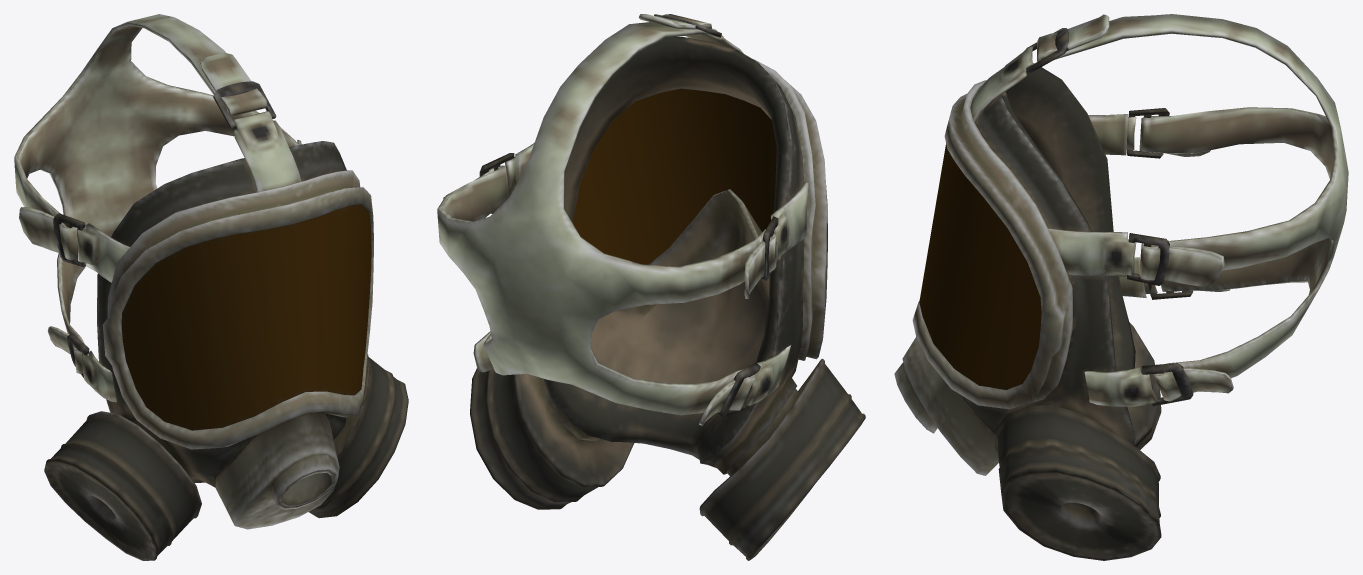
File: maske.fbx
3 renders of one model, left to right at view 1: azimuth 30°, elevation 25°; view 2: azimuth 150°, elevation 25°; view 3: azimuth 270°, elevation 25°, orthographic. The views are drawn at different scales.
Visible parts, largest first — view 1: Masks; view 2: Masks; view 3: Masks.
Part boxes in pixels (bbox=[...]): Masks: bbox=[14, 14, 408, 560]; Masks: bbox=[437, 14, 865, 560]; Masks: bbox=[894, 14, 1348, 560].
Bounding box in the file's own units: 2096 × 2847 × 2364.
